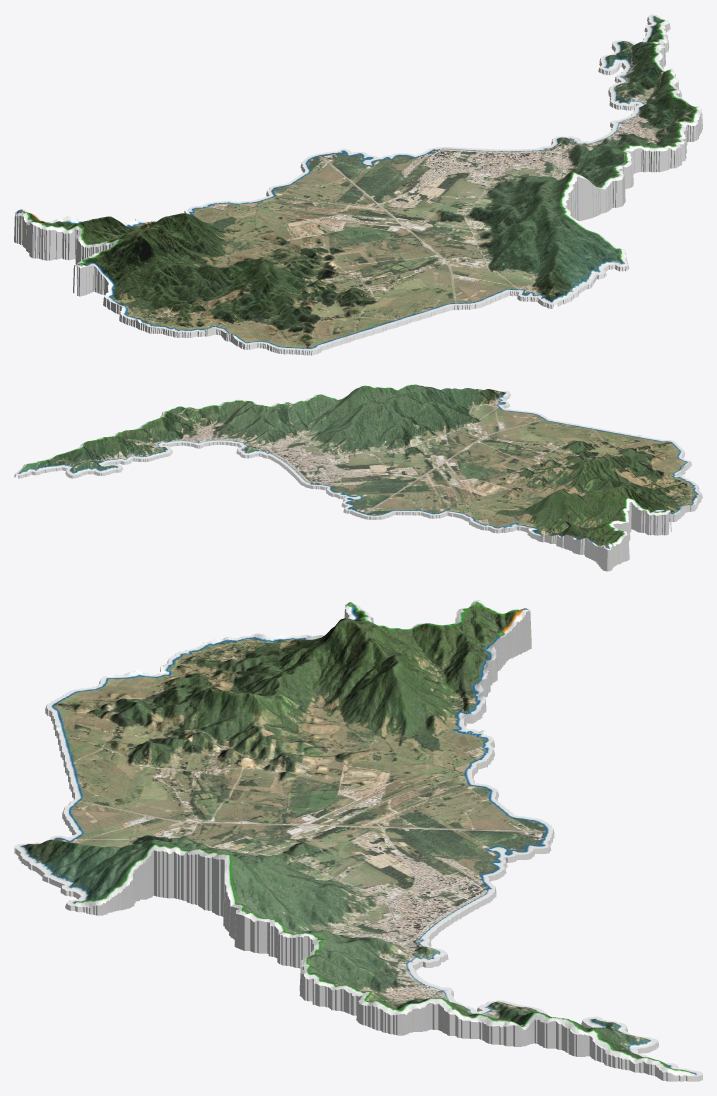
The picture shows the model from 3 angles, top to bottom: view 1: azimuth 30°, elevation 25°; view 2: azimuth 150°, elevation 25°; view 3: azimuth 270°, elevation 25°; orthographic projection. The views are drawn at different scales.
Size of the model in its own units: 1 by 0.0634 by 0.6576.
1 material, 1 textured.
